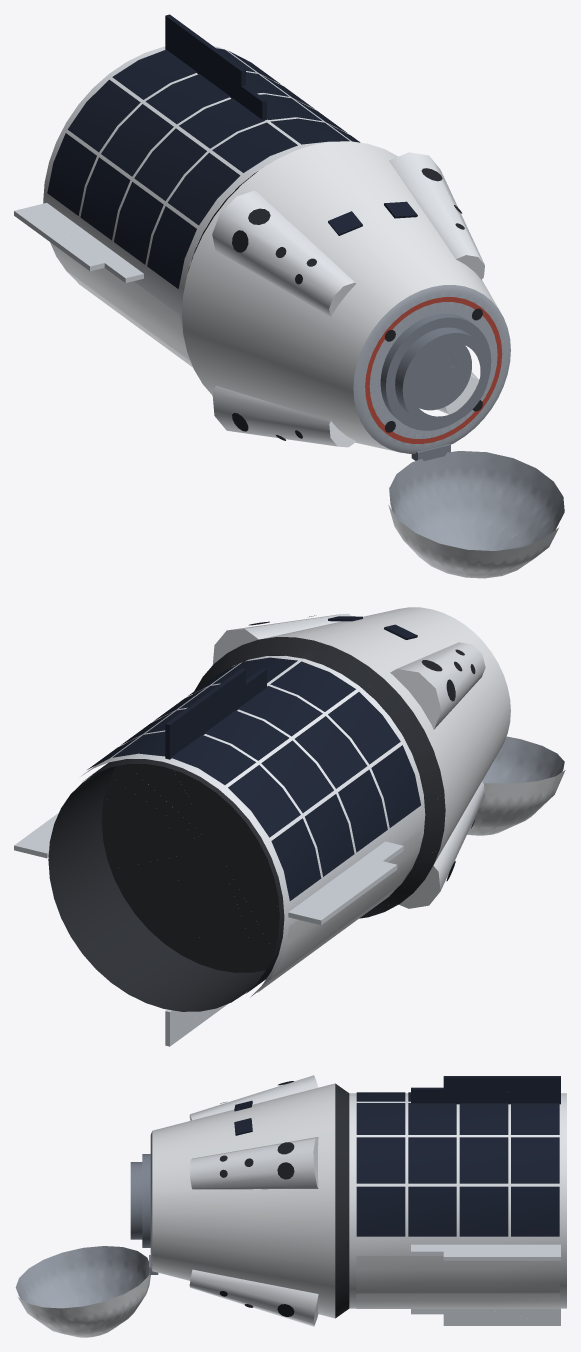
Rendered from dragon-crew.glb.
3 views of the same model, one above another, from view 1: azimuth 30°, elevation 25°; view 2: azimuth 150°, elevation 25°; view 3: azimuth 270°, elevation 25° (orthographic). The views are drawn at different scales.
Visible parts, largest first — view 1: body, solar-panel; view 2: body, solar-panel; view 3: body, solar-panel.
Boxes of the visible parts, box(x1,y1,x2,y2) form: body: box(14, 46, 564, 578); solar-panel: box(47, 14, 417, 288); body: box(14, 607, 565, 1046); solar-panel: box(87, 616, 420, 900); body: box(15, 1075, 566, 1337); solar-panel: box(234, 1076, 560, 1236).
Size of the model in its own units: 4.66 by 4.79 by 9.4.
